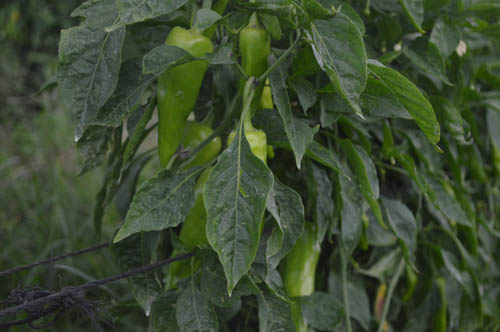ChiliPepper: (156, 28, 205, 158), (182, 172, 219, 265), (283, 228, 323, 296), (236, 28, 269, 110), (177, 125, 217, 172)
